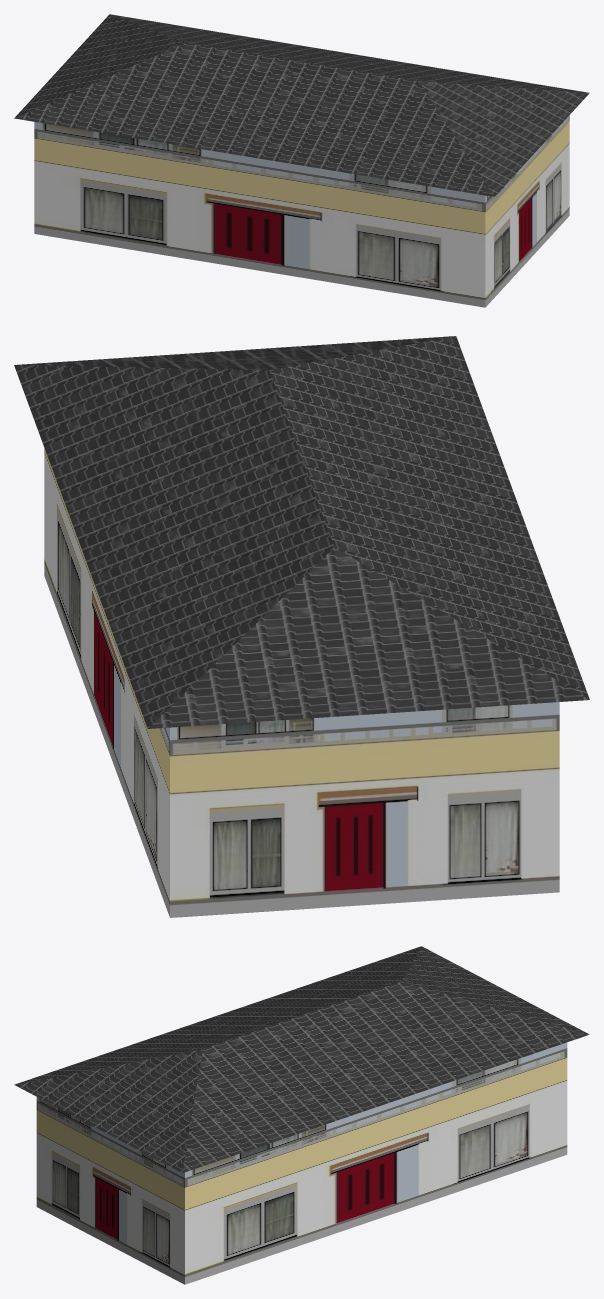
The picture shows the model from 3 angles, top to bottom: view 1: azimuth 30°, elevation 25°; view 2: azimuth 150°, elevation 25°; view 3: azimuth 270°, elevation 25°; orthographic projection. The views are drawn at different scales.
Parts seen in each view (by area): view 1: CityEngineMaterial_15_m, CityEngineMaterial_16_m; view 2: CityEngineMaterial_16_m, CityEngineMaterial_15_m; view 3: CityEngineMaterial_15_m, CityEngineMaterial_16_m.
Part boxes in pixels (x1,y1,x2,y2): CityEngineMaterial_15_m: (34, 115, 569, 307); CityEngineMaterial_16_m: (14, 14, 589, 196); CityEngineMaterial_16_m: (14, 336, 589, 728); CityEngineMaterial_15_m: (44, 448, 559, 917); CityEngineMaterial_15_m: (36, 1042, 567, 1284); CityEngineMaterial_16_m: (14, 946, 589, 1172).
Size of the model in its own units: 31.53 by 10.71 by 33.81.
